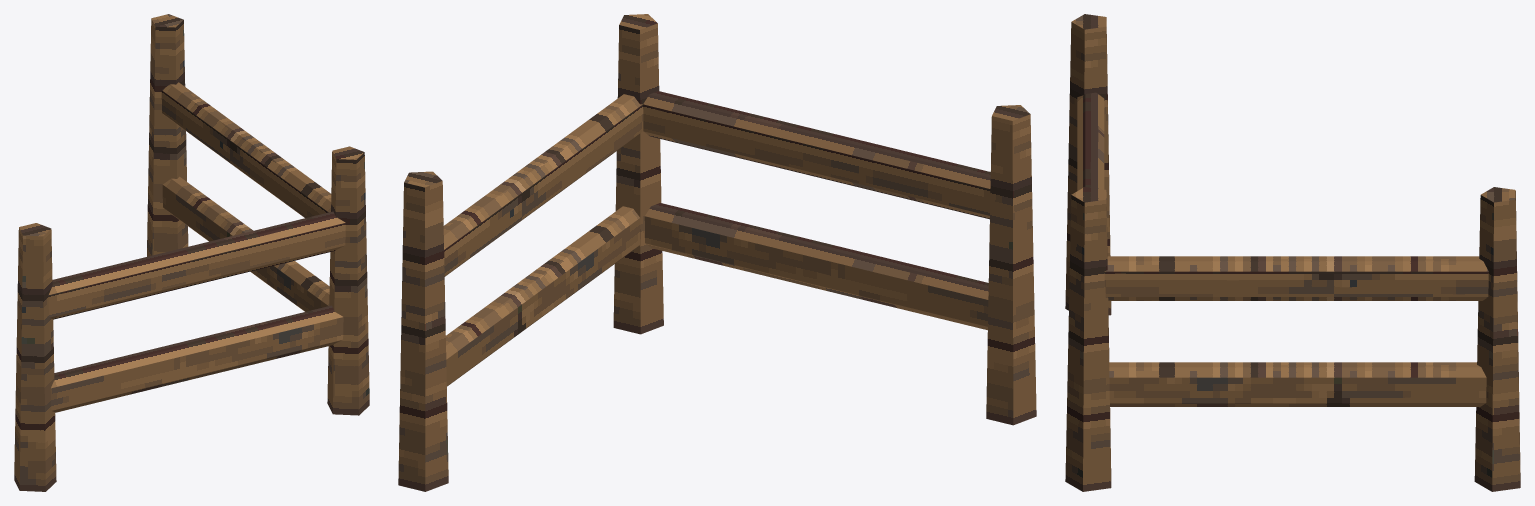
File: enfeite_cerca_canto.glb
3 renders of one model, left to right at view 1: azimuth 30°, elevation 25°; view 2: azimuth 150°, elevation 25°; view 3: azimuth 270°, elevation 25°, orthographic. The views are drawn at different scales.
Visible parts, largest first — view 1: pedreira_enfeite_cerca_canto; view 2: pedreira_enfeite_cerca_canto; view 3: pedreira_enfeite_cerca_canto.
Part boxes in pixels (x1,y1,x2,y2): pedreira_enfeite_cerca_canto: [14, 14, 369, 491]; pedreira_enfeite_cerca_canto: [398, 14, 1036, 491]; pedreira_enfeite_cerca_canto: [1065, 14, 1520, 491].
Bounding box in the file's own units: 0.9389 × 0.65 × 0.9341.
Materials: 1 (1 with a texture image).
